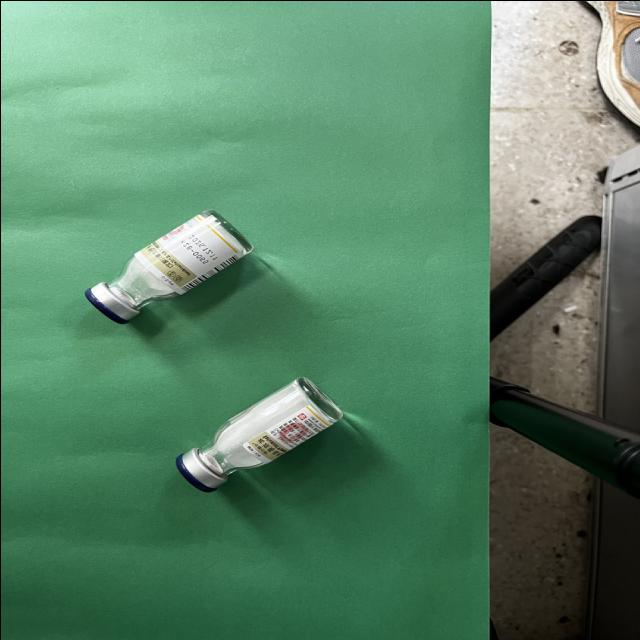Vials: (176, 376, 342, 491), (85, 210, 252, 322)
